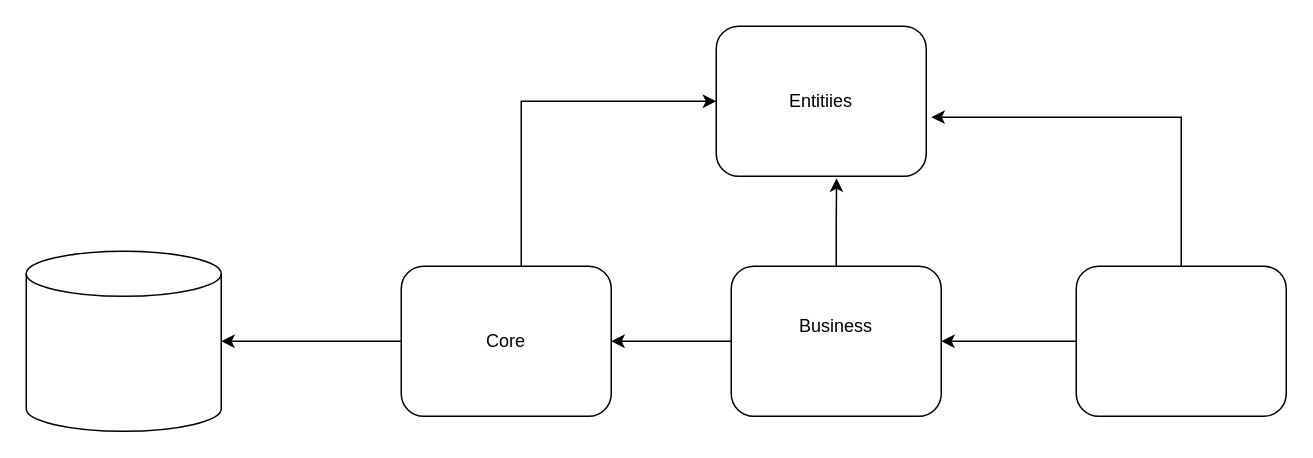
The diagram is 1313 pixels wide and 458 high, and some of its shapes have lost their labels. The shapes that lost their labels are listed below. From the top down, each one's centre as x and y in pixels, then its label:
(x=123, y=340): Json Db
(x=1180, y=340): UI
